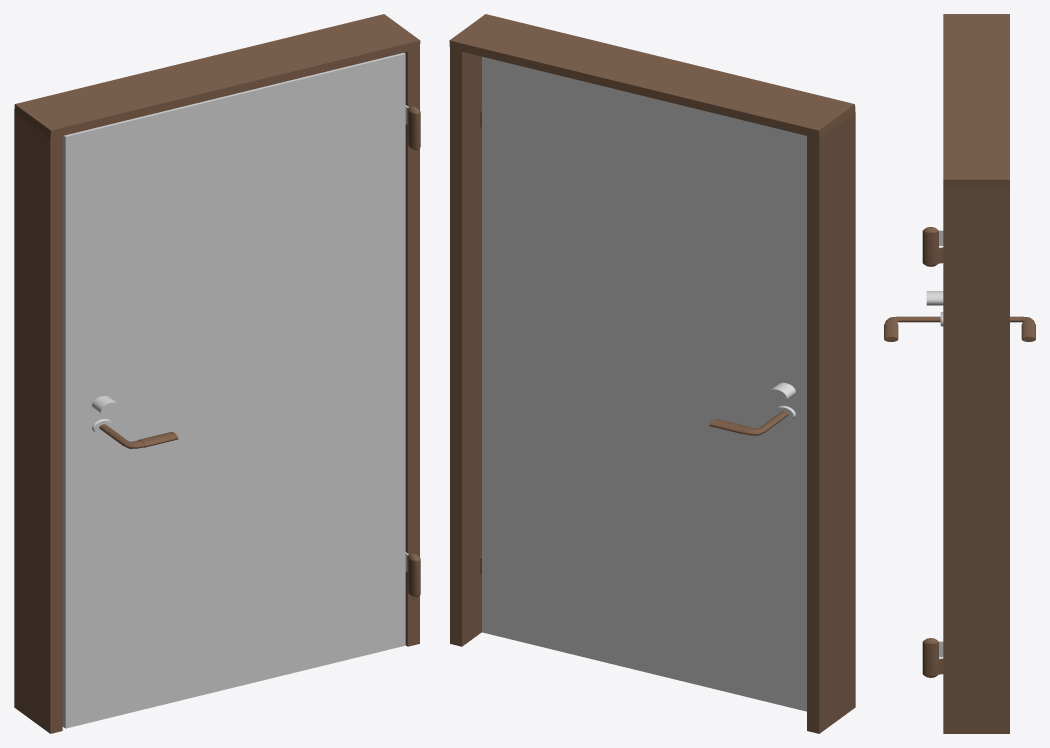
Rendered from Ver.2.0_Door_3DModel.fbx.
3 renders of one model, left to right at view 1: azimuth 30°, elevation 25°; view 2: azimuth 150°, elevation 25°; view 3: azimuth 270°, elevation 25°, orthographic. The views are drawn at different scales.
Visible parts, largest first — view 1: DoorInside, DoorFramework, Doorknob; view 2: DoorInside, DoorFramework, Doorknob; view 3: DoorFramework, DoorInside, Doorknob.
Part boxes in pixels (left/top/right/bottom): DoorInside: left=62, top=52, right=420, bottom=728; DoorFramework: left=14, top=14, right=420, bottom=733; Doorknob: left=99, top=424, right=178, bottom=448; DoorInside: left=482, top=56, right=806, bottom=711; DoorFramework: left=449, top=14, right=855, bottom=733; Doorknob: left=709, top=411, right=788, bottom=435; DoorFramework: left=922, top=14, right=1009, bottom=733; DoorInside: left=922, top=227, right=943, bottom=659; Doorknob: left=884, top=316, right=1035, bottom=341.
Bounding box in the file's own units: 2.8 × 4.36 × 1.08.
